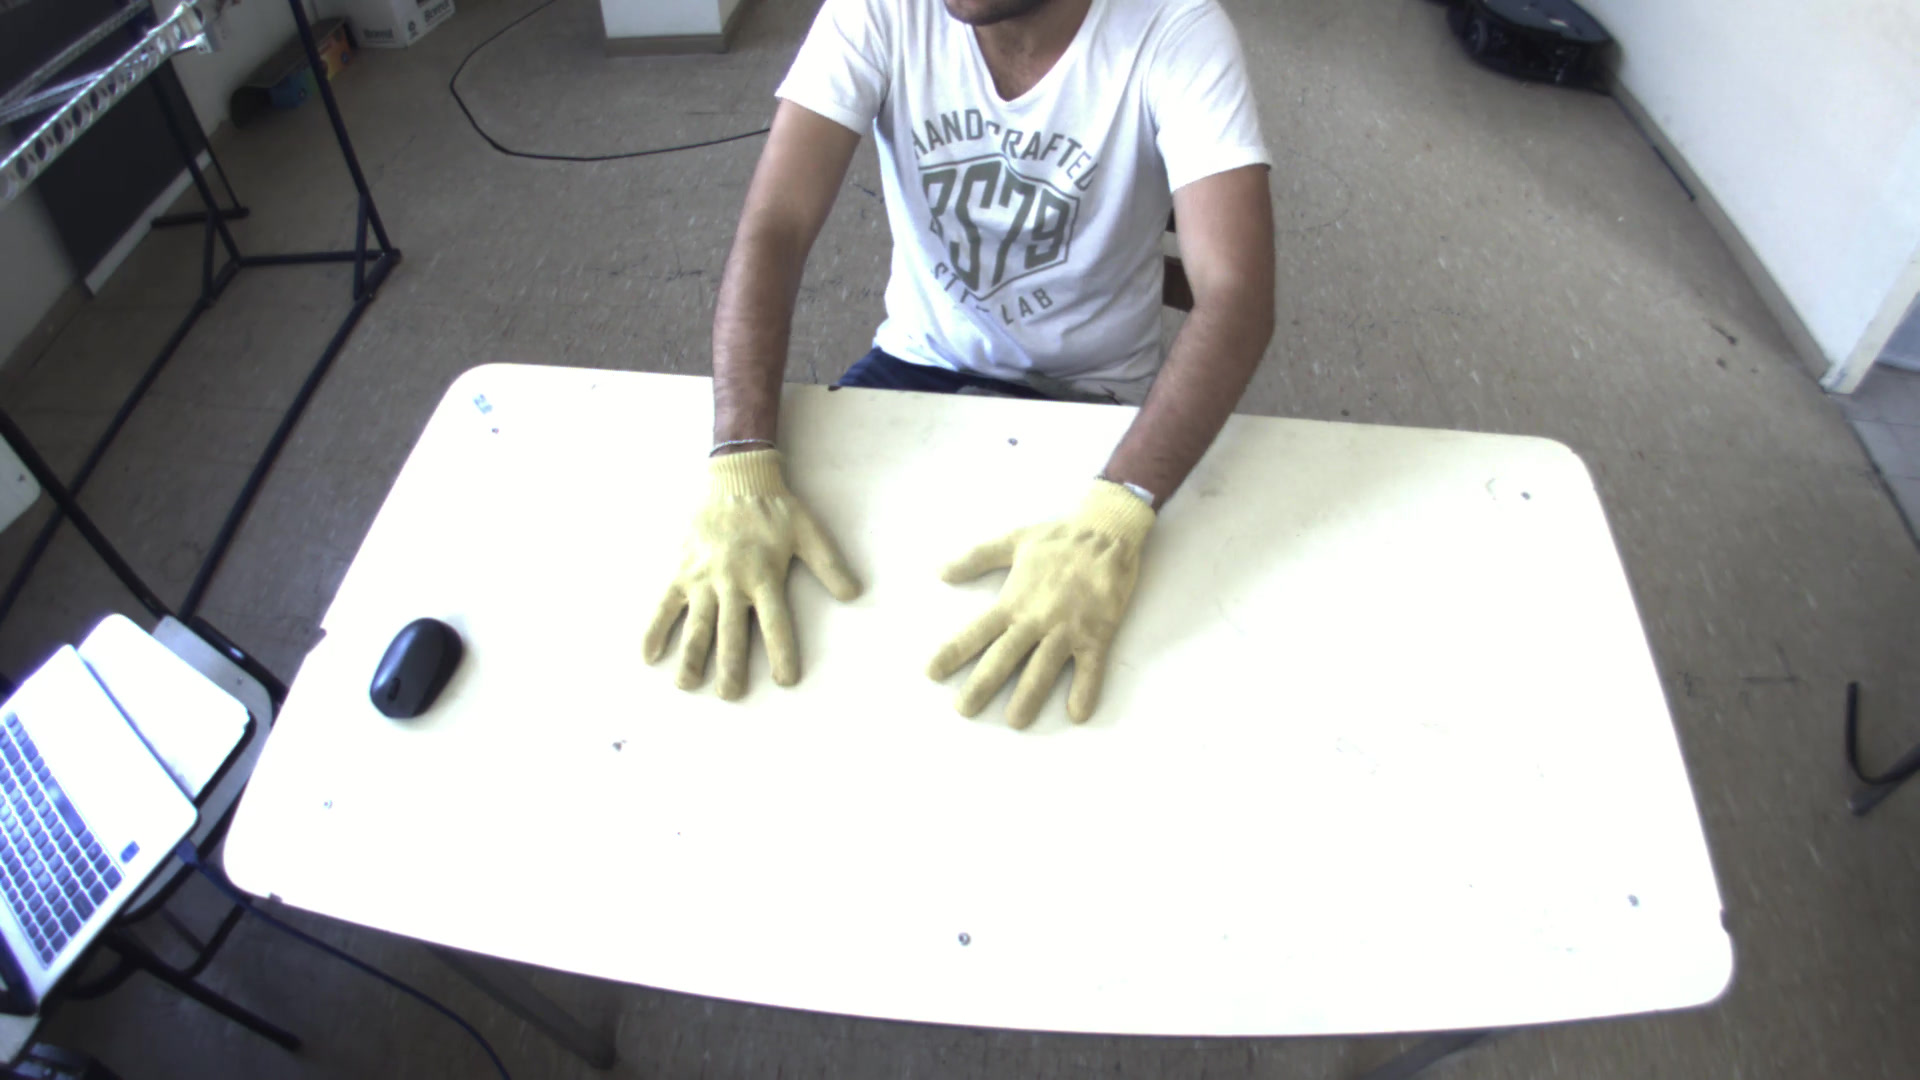hand: (626, 426, 874, 705), (911, 473, 1163, 740)
